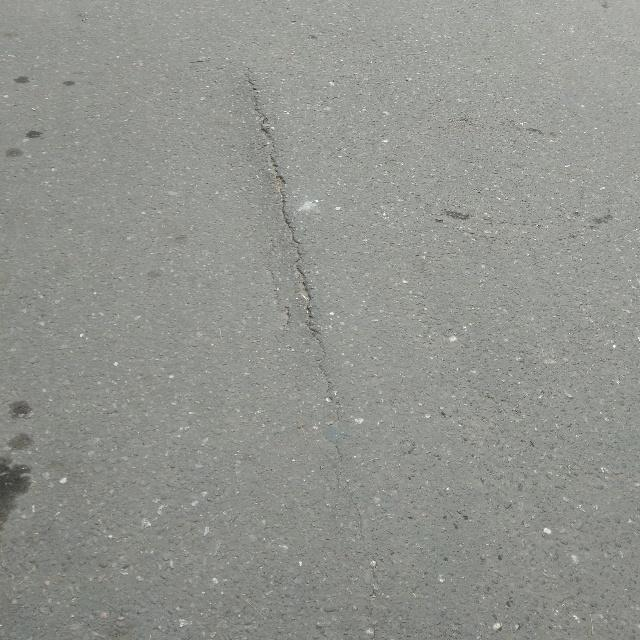Crack: (211, 59, 391, 413)
